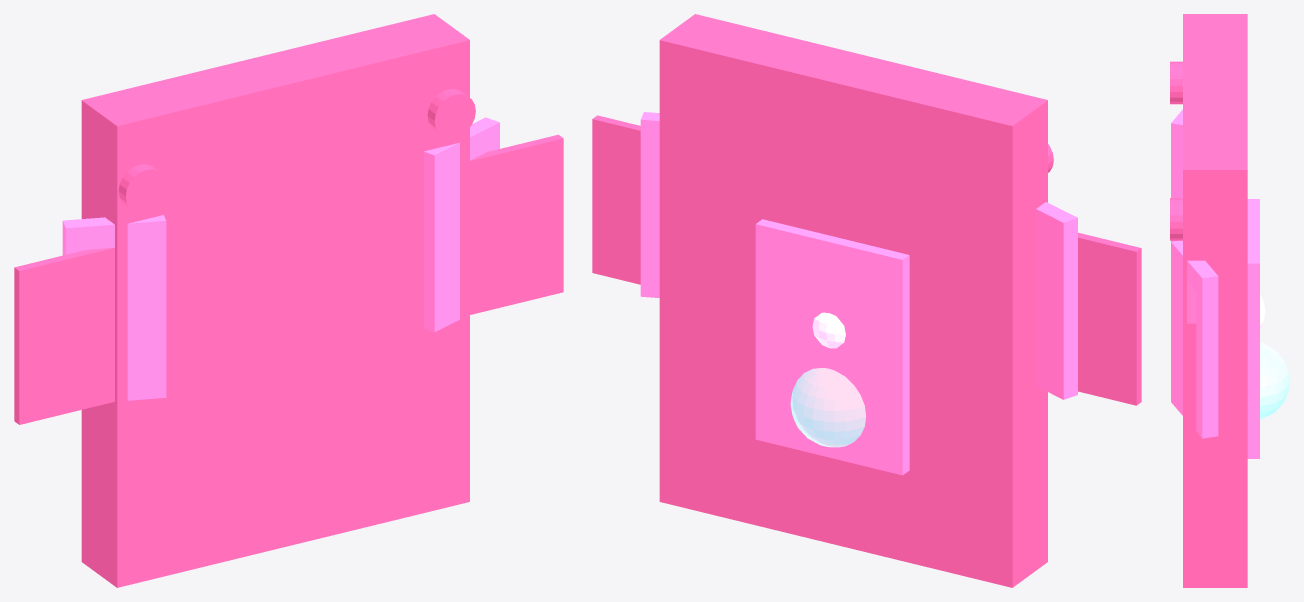
The model's file is boss_flagship.glb.
3 views of the same model, side by side, from view 1: azimuth 30°, elevation 25°; view 2: azimuth 150°, elevation 25°; view 3: azimuth 270°, elevation 25° (orthographic). The views are drawn at different scales.
Parts seen in each view (by area): view 1: hull, wing, blade_-1, blade_1, thruster_-1, thruster_1; view 2: hull, armor, wing, blade_-1, canopy, blade_1, core; view 3: hull, blade_1, armor, wing, canopy, blade_-1, thruster_-1, thruster_1.
Part boxes in pixels (x1,y1,x2,y2): hull: (81, 14, 469, 587); wing: (14, 134, 563, 424); blade_-1: (62, 215, 166, 400); blade_1: (423, 117, 499, 332); thruster_-1: (118, 164, 166, 213); thruster_1: (427, 89, 475, 138); hull: (659, 14, 1047, 587); armor: (755, 219, 909, 475); wing: (592, 115, 1141, 405); blade_-1: (1036, 202, 1077, 399); canopy: (790, 368, 865, 447); blade_1: (640, 112, 659, 297); core: (812, 312, 845, 348); hull: (1183, 14, 1247, 587); blade_1: (1171, 240, 1218, 438); armor: (1247, 199, 1259, 458); wing: (1187, 282, 1196, 462); canopy: (1260, 342, 1289, 419); blade_-1: (1171, 109, 1182, 241); thruster_-1: (1170, 61, 1182, 104); thruster_1: (1170, 198, 1182, 240).
Bounding box in the file's own units: 7.4 × 6 × 1.56.
